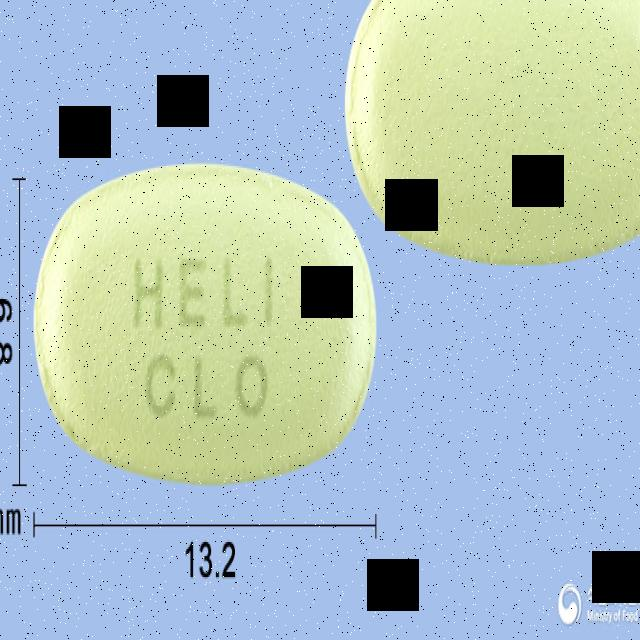Heliclo Tab: (35, 158, 380, 487)
